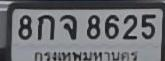2: (122, 14, 136, 39)
5: (140, 13, 156, 38)
6: (104, 14, 118, 38)
8: (17, 14, 31, 39), (86, 14, 99, 38)
A01: (37, 14, 54, 39)
A08: (59, 14, 76, 39)
BKK: (33, 48, 142, 61)
